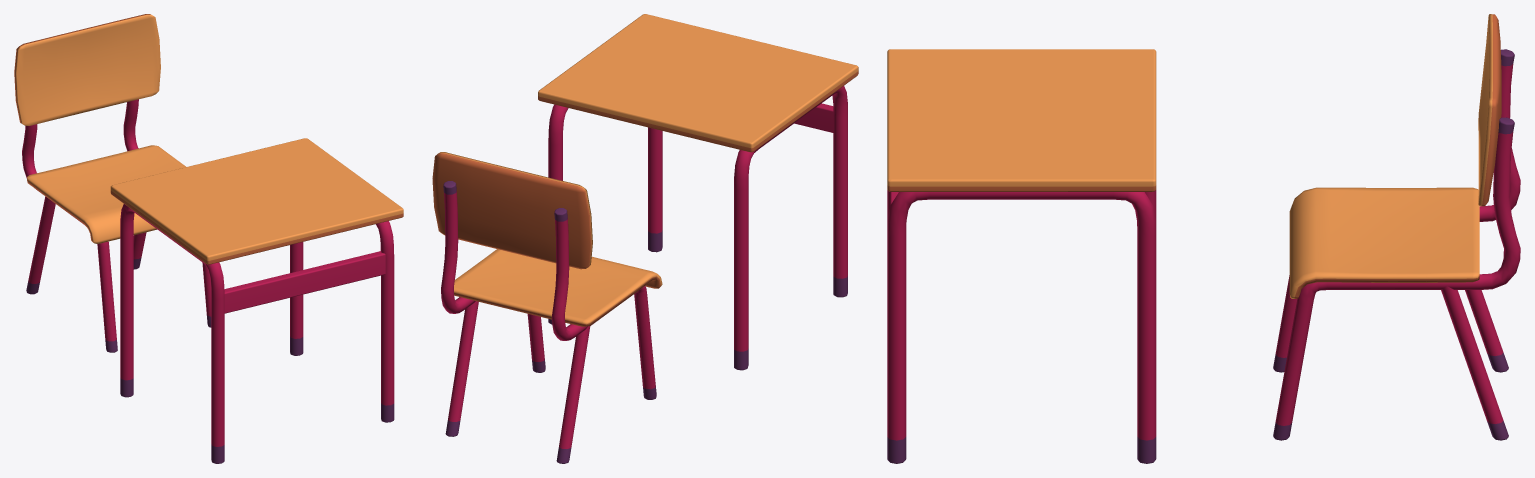
Rendered from M_TableChair.fbx.
The picture shows the model from 3 angles, left to right: view 1: azimuth 30°, elevation 25°; view 2: azimuth 150°, elevation 25°; view 3: azimuth 270°, elevation 25°; orthographic projection. The views are drawn at different scales.
Visible parts, largest first — view 1: M_Table_Top, M_Chair_BackSupport, M_Chair_Seat, M_Table_Leg_L, M_Table_Split, M_Table_Leg_R, M_Chair_Feet_L, M_Chair_Feet_R; view 2: M_Table_Top, M_Chair_BackSupport, M_Chair_Seat, M_Table_Leg_L, M_Chair_Feet_L, M_Chair_Feet_R, M_Table_Leg_R, M_Table_Split; view 3: M_Table_Top, M_Chair_Seat, M_Table_Leg_R, M_Chair_Feet_R, M_Chair_Feet_L, M_Chair_BackSupport.
Boxes of the visible parts, <box> form: M_Table_Top: <box>110,138,403,264</box>; M_Chair_BackSupport: <box>14,14,160,125</box>; M_Chair_Seat: <box>27,145,185,243</box>; M_Table_Leg_L: <box>120,204,224,463</box>; M_Table_Split: <box>224,251,385,313</box>; M_Table_Leg_R: <box>290,221,394,422</box>; M_Chair_Feet_L: <box>22,124,117,352</box>; M_Chair_Feet_R: <box>123,99,211,327</box>; M_Table_Top: <box>538,14,858,152</box>; M_Chair_BackSupport: <box>432,152,592,269</box>; M_Chair_Seat: <box>454,249,662,326</box>; M_Table_Leg_L: <box>734,86,847,370</box>; M_Chair_Feet_L: <box>552,208,656,463</box>; M_Chair_Feet_R: <box>441,181,545,436</box>; M_Table_Leg_R: <box>548,104,662,324</box>; M_Table_Split: <box>794,103,833,132</box>; M_Table_Top: <box>887,49,1156,191</box>; M_Chair_Seat: <box>1289,187,1479,298</box>; M_Table_Leg_R: <box>887,192,1156,463</box>; M_Chair_Feet_R: <box>1273,117,1520,440</box>; M_Chair_Feet_L: <box>1273,49,1520,372</box>; M_Chair_BackSupport: <box>1478,14,1501,206</box>.
Size of the model in its own units: 1.25 by 1.53 by 2.53.
